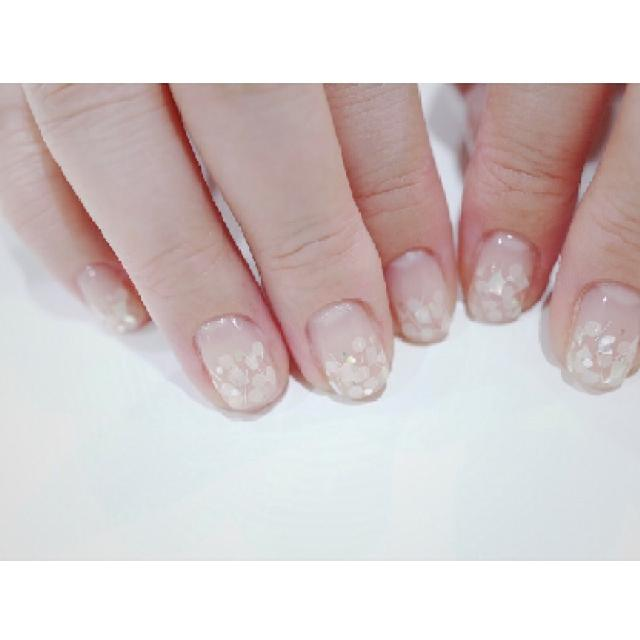Nail: (564, 281, 640, 391), (195, 315, 282, 411), (309, 300, 390, 399), (385, 250, 454, 342), (466, 231, 535, 322), (76, 265, 146, 332)
